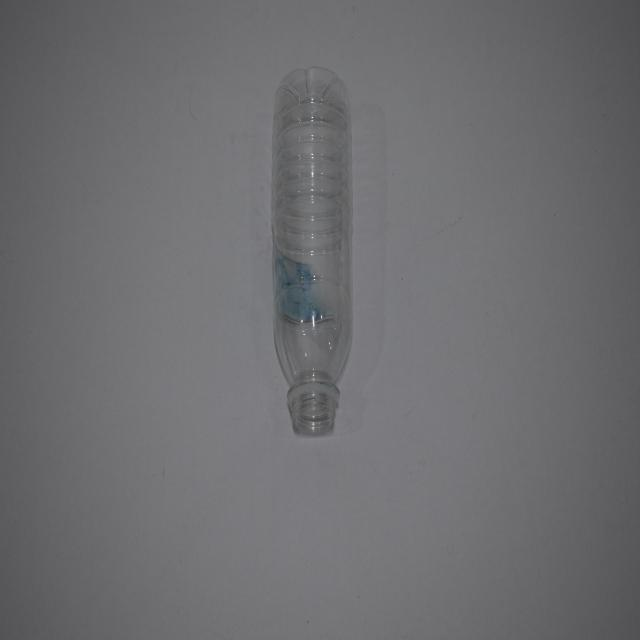plastic: (266, 61, 354, 443)
